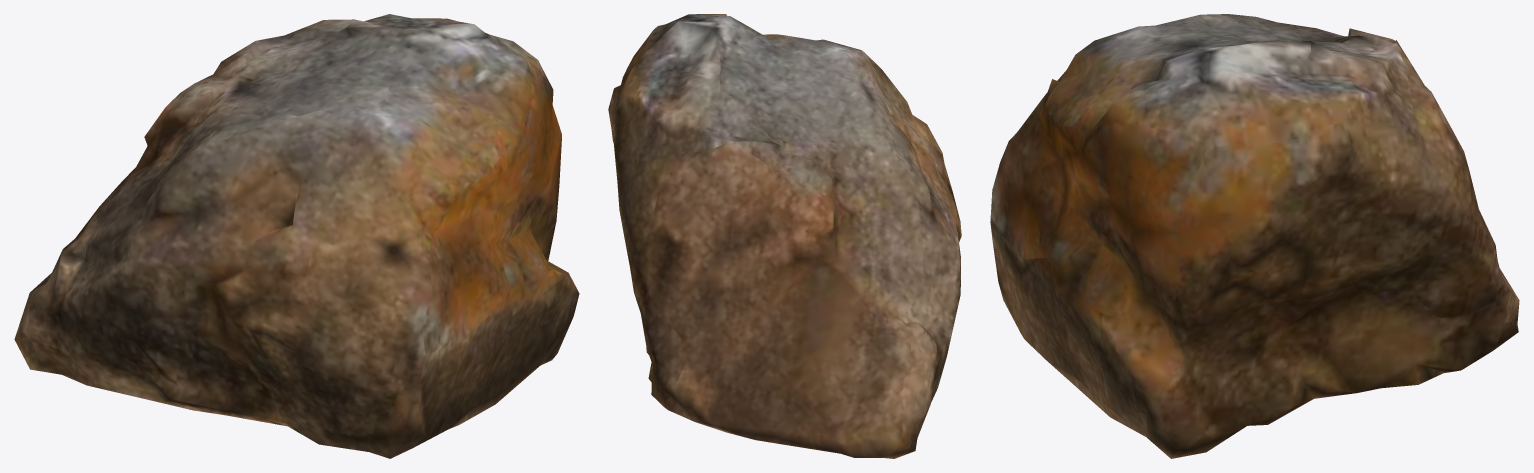
Rendered from rock_mars_2.glb.
3 renders of one model, left to right at view 1: azimuth 30°, elevation 25°; view 2: azimuth 150°, elevation 25°; view 3: azimuth 270°, elevation 25°, orthographic. The views are drawn at different scales.
Visible parts, largest first — view 1: boulder_04; view 2: boulder_04; view 3: boulder_04.
Boxes of the visible parts, x1,y1,x2,y2 form: boulder_04: (14, 14, 579, 458); boulder_04: (608, 14, 961, 458); boulder_04: (990, 14, 1519, 458).
Size of the model in its own units: 2.52 by 1.88 by 2.47.
Materials: 1 (1 with a texture image).
